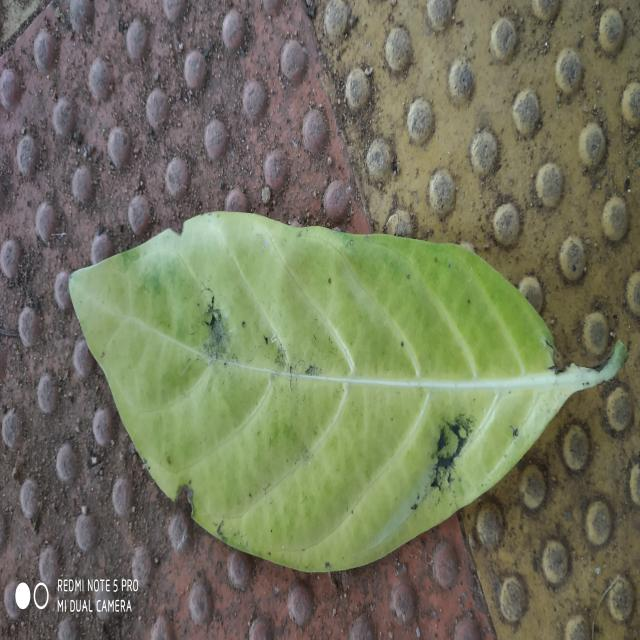anthracnosenooni: (69, 211, 628, 573)
